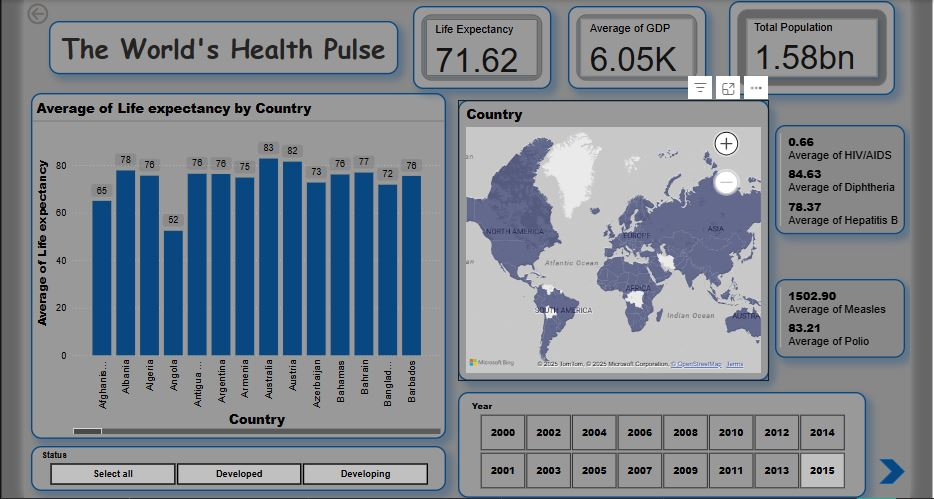

Layout of this report page (visuals, bound fields, positions):
{"tool":"powerbi","page":{"name":"Country Health Overview","canvas":[1280,720],"ordinal":0},"visuals":[{"type":"clusteredColumnChart","fields":{"Category":["Life Expectancy Data.Country"],"Y":["Avg(Life Expectancy Data.Life expectancy )"]},"box":[10.1,134.5,600,500.2],"z":0},{"type":"slicer","fields":{"Values":["Life Expectancy Data.Status"]},"box":[10.1,644.8,600,65.1],"z":1000},{"type":"actionButton","box":[0,0,100,40],"z":2000},{"type":"cardVisual","fields":{"Data":["Avg(Life Expectancy Data.GDP)"]},"box":[786.5,8.7,199.5,120],"z":3000},{"type":"slicer","fields":{"Values":["Life Expectancy Data.Year.Variation.Date Hierarchy.Year"]},"box":[627.5,566.7,589.9,153.3],"z":4000},{"type":"cardVisual","fields":{"Data":["Life Expectancy Data.Total Population"]},"box":[1019.3,1.4,240,135.9],"z":5000},{"type":"cardVisual","fields":{"Data":["Life Expectancy Data(WHO).Life Expectancy"]},"box":[562.4,8.7,199.5,120],"z":6000},{"type":"filledMap","fields":{"Category":["Life Expectancy Data.Country"]},"box":[627.5,144.6,449.6,406.3],"z":7000},{"type":"multiRowCard","fields":{"Values":["Avg(Life Expectancy Data. HIV/AIDS)","Avg(Life Expectancy Data.Diphtheria )","Avg(Life Expectancy Data.Hepatitis B)"]},"box":[1085.8,180.7,188,157.6],"z":8000},{"type":"multiRowCard","fields":{"Values":["Avg(Life Expectancy Data(WHO).Measles )","Avg(Life Expectancy Data(WHO).Polio)"]},"box":[1085.8,403.4,188,114.2],"z":9000},{"type":"textbox","box":[36.1,30.4,504.6,76.6],"z":10000},{"type":"shape","box":[1236.1,663.6,37.6,36.1],"z":11000}]}

Visuals, with their boxes in screenshot pixels (x1, y1, x2, y2):
clusteredColumnChart - Life Expectancy Data.Country x Avg(Life Expectancy Data.Life expectancy ): (x1=36, y1=92, x2=446, y2=433)
slicer - Life Expectancy Data.Status: (x1=36, y1=440, x2=446, y2=485)
actionButton: (x1=29, y1=0, x2=97, y2=27)
cardVisual - Avg(Life Expectancy Data.GDP): (x1=566, y1=6, x2=703, y2=88)
slicer - Life Expectancy Data.Year.Variation.Date Hierarchy.Year: (x1=458, y1=387, x2=861, y2=492)
cardVisual - Life Expectancy Data.Total Population: (x1=725, y1=1, x2=889, y2=94)
cardVisual - Life Expectancy Data(WHO).Life Expectancy: (x1=413, y1=6, x2=550, y2=88)
filledMap - Life Expectancy Data.Country: (x1=458, y1=99, x2=765, y2=376)
multiRowCard - Avg(Life Expectancy Data. HIV/AIDS) x Avg(Life Expectancy Data.Diphtheria ): (x1=771, y1=123, x2=899, y2=231)
multiRowCard - Avg(Life Expectancy Data(WHO).Measles ) x Avg(Life Expectancy Data(WHO).Polio): (x1=771, y1=276, x2=899, y2=353)
textbox: (x1=54, y1=21, x2=398, y2=73)
shape: (x1=873, y1=453, x2=899, y2=478)
